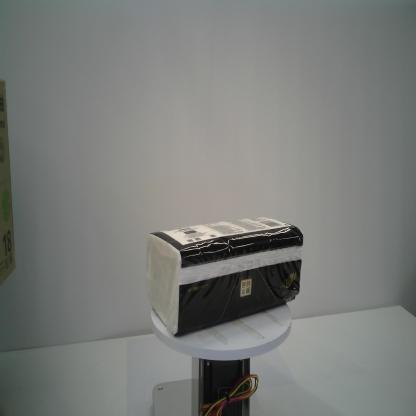Tissue: (145, 214, 303, 338)
